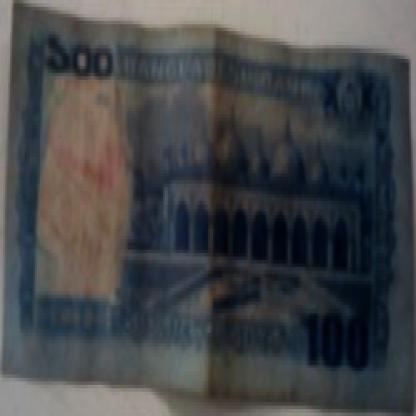one hundred taka: (296, 298, 376, 381), (42, 24, 118, 90)
